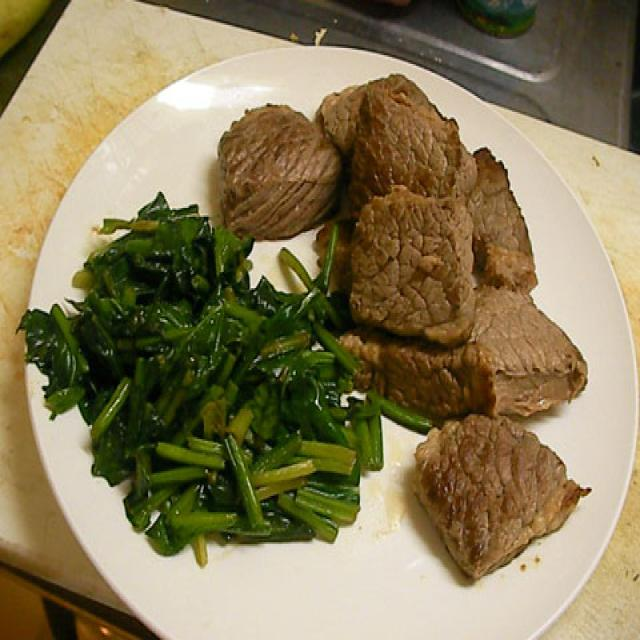蔬菜料理: (0, 178, 436, 602)
